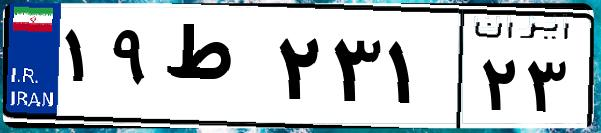1: (385, 28, 445, 110), (57, 26, 110, 100)
2: (270, 28, 330, 110), (475, 38, 525, 113)
3: (330, 28, 385, 110), (525, 38, 570, 115)
9: (110, 28, 158, 98)
ط: (158, 20, 270, 120)
